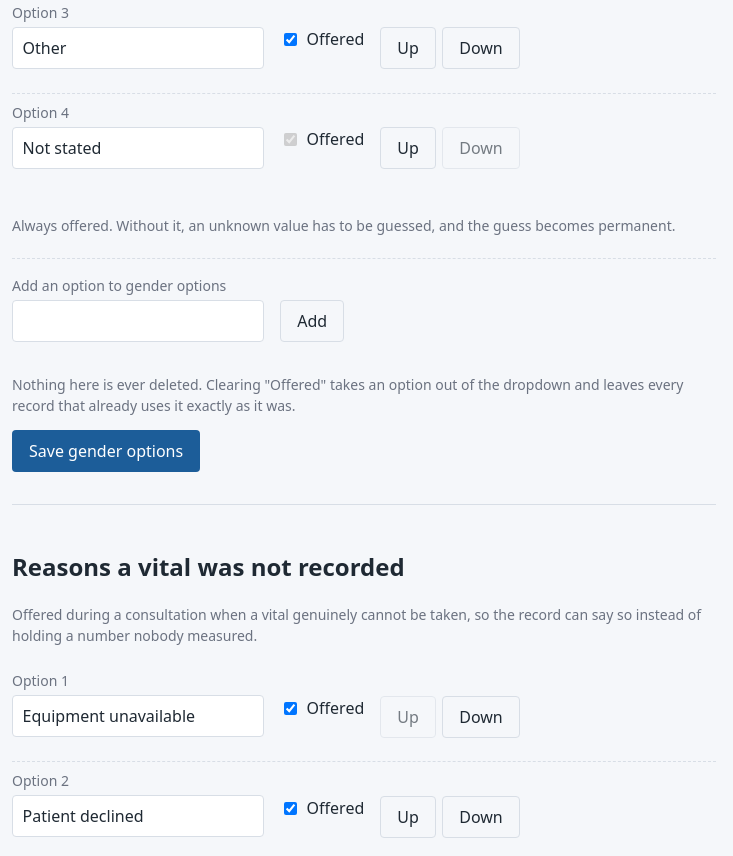
Scenario: ClinicSettingsPage › renders the list-level error when the server refuses the whole edit
(page scrolled)
Click the button "Save gender options" at (106, 451), box [12,430,200,472]
(page scrolled)
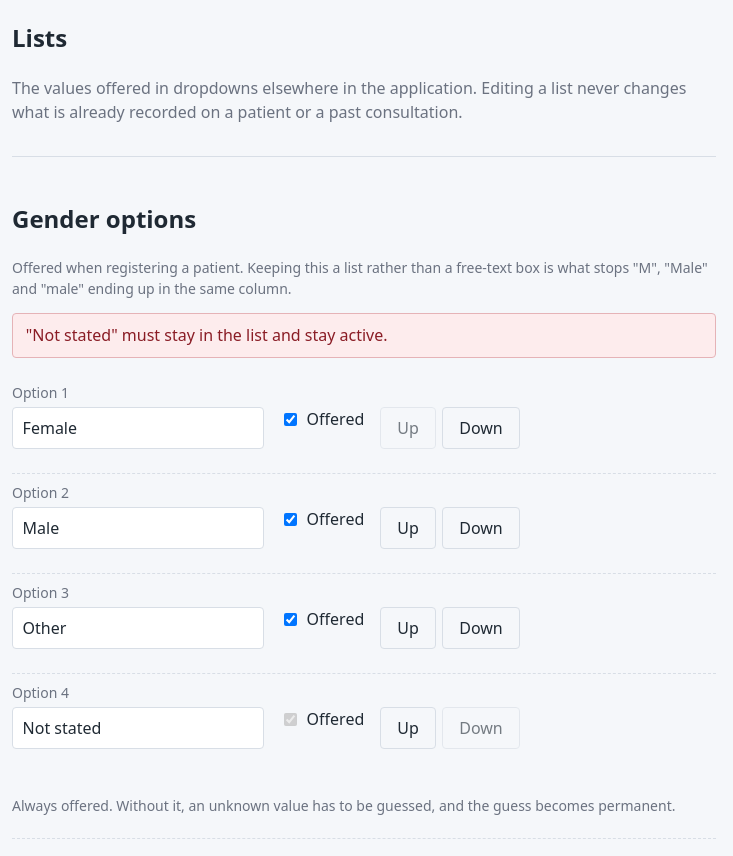
Now the message reads "\"Not stated\" must stay in the list and stay active.", box [26,324,388,346]
